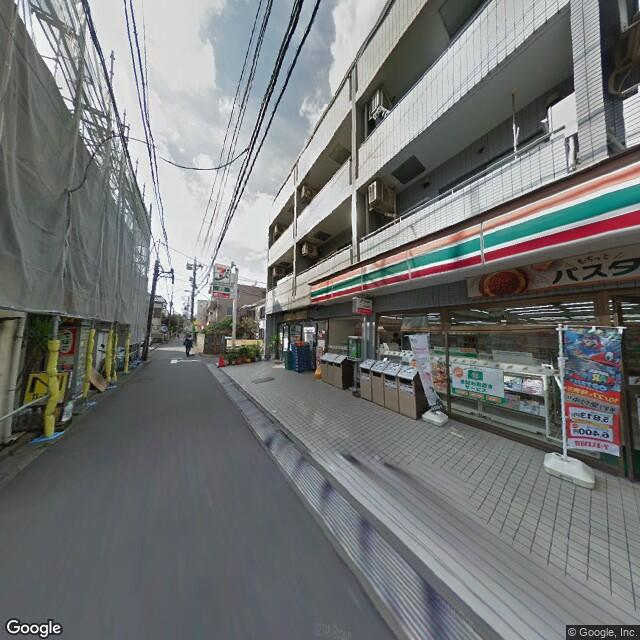7-eleven: (307, 156, 639, 306), (214, 257, 230, 283)
